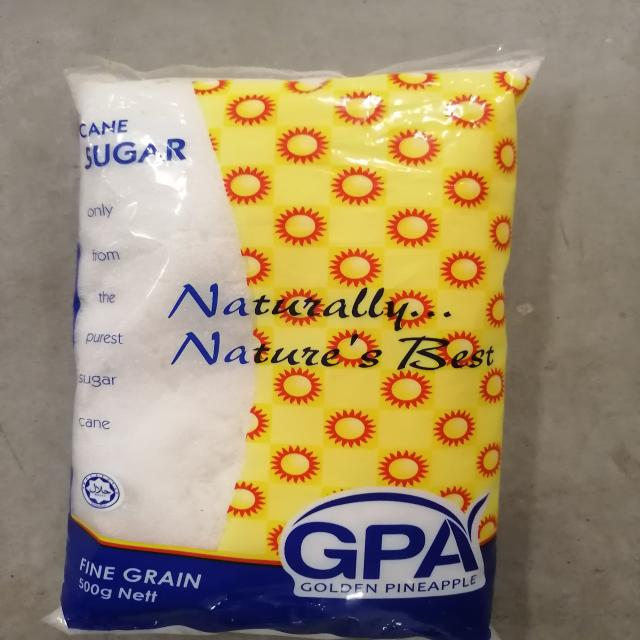object_name: (80, 67, 494, 633)
